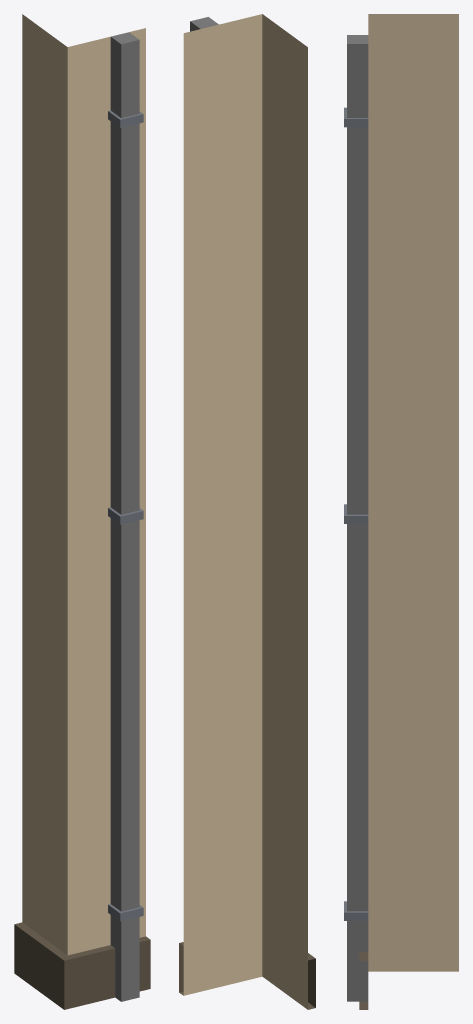
Rendered from mid-c1_close.fbx.
3 renders of one model, left to right at view 1: azimuth 30°, elevation 25°; view 2: azimuth 210°, elevation 25°; view 3: azimuth 270°, elevation 25°, orthographic.
Visible parts, largest first — view 1: a2000/400/mid-c1_close; view 2: a2000/400/mid-c1_close; view 3: a2000/400/mid-c1_close.
Part boxes in pixels (left/top/right/bottom): a2000/400/mid-c1_close: left=14, top=14, right=150, bottom=1009; a2000/400/mid-c1_close: left=179, top=14, right=315, bottom=1009; a2000/400/mid-c1_close: left=344, top=14, right=458, bottom=1009.
Size of the model in its own units: 0.33 by 3.5 by 0.38.
